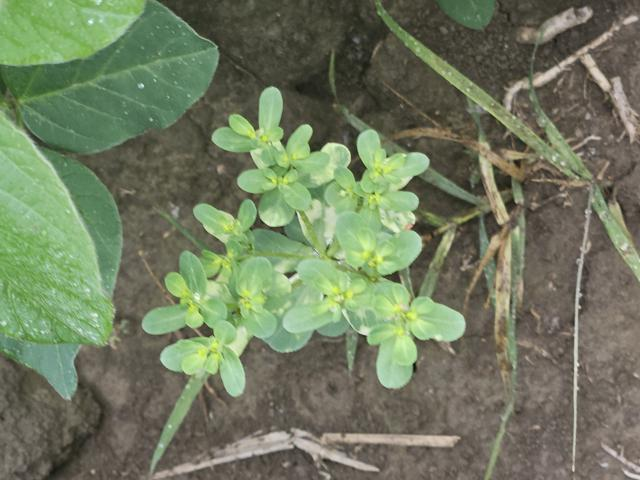bad weed: (132, 102, 478, 392), (489, 36, 538, 401)
